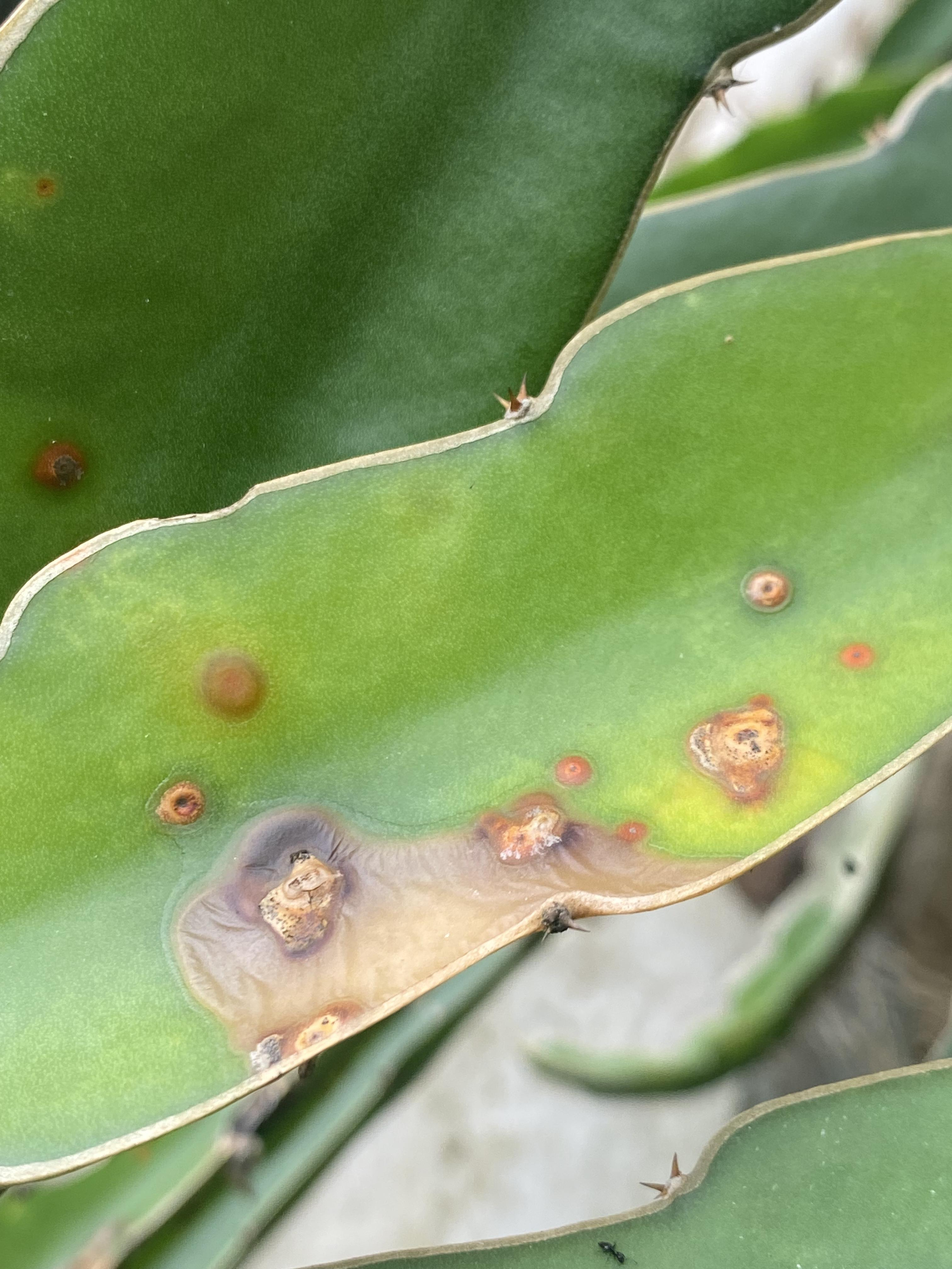stemcanker: (676, 690, 810, 817), (241, 849, 351, 965), (250, 995, 363, 1074), (173, 645, 279, 726), (479, 794, 580, 866), (145, 770, 220, 830), (24, 436, 92, 495), (731, 563, 800, 619), (827, 635, 889, 674), (545, 749, 601, 792), (30, 173, 59, 200)
